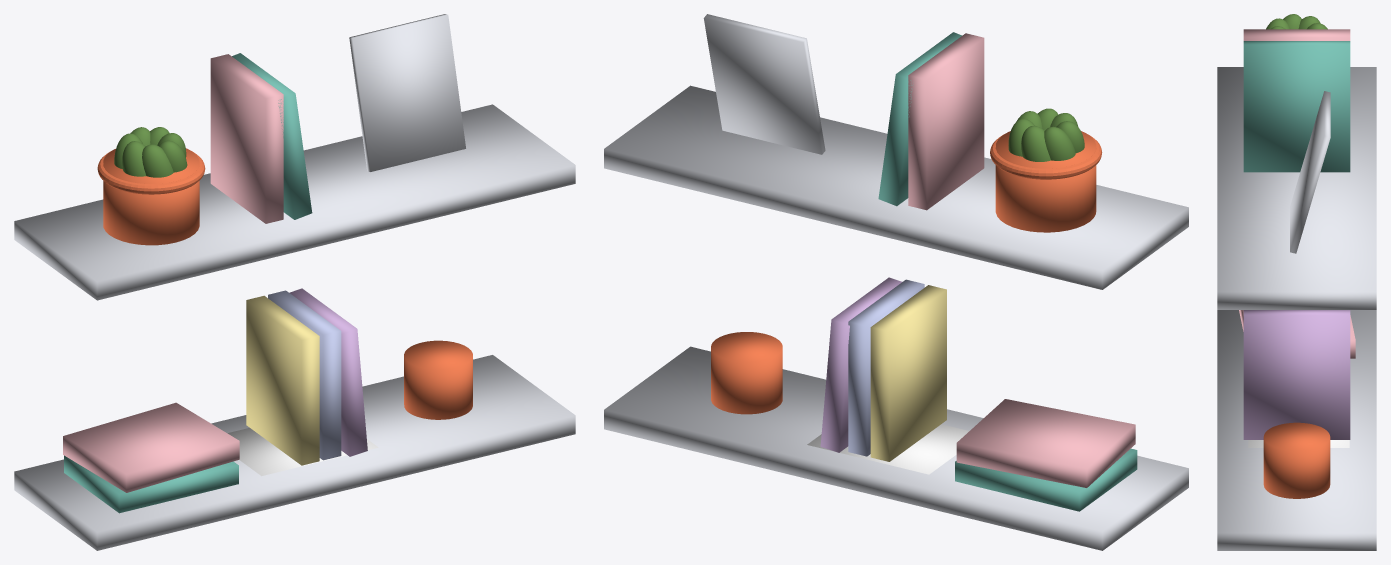
The picture shows the model from 3 angles, left to right: view 1: azimuth 30°, elevation 25°; view 2: azimuth 150°, elevation 25°; view 3: azimuth 270°, elevation 25°; orthographic projection. The views are drawn at different scales.
Parts seen in each view (by area): view 1: Cube, Cube.007, Cube.005, Cube.012, Cube.001, Cube.010, Cylinder, Cylinder.001, Cube.014, Cube.008, Cube.016, Cube.003 (+4 smaller); view 2: Cube, Cube.007, Cube.005, Cube.012, Cube.001, Cube.010, Cylinder, Cylinder.001, Cube.014, Cube.008, Cube.016, Cube.003 (+4 smaller); view 3: Cube, Cube.007, Cube.016, Cube.003, Cylinder.001, Cube.005, Cube.001, Cube.009, Cube.010.
Part boxes in pixels (x1,y1,x2,y2): Cube: (14,104,575,300); Cube.007: (14,355,575,550); Cube.005: (349,14,465,171); Cube.012: (246,295,319,465); Cube.001: (210,54,283,223); Cube.010: (63,402,239,492); Cylinder: (103,148,199,245); Cylinder.001: (404,340,472,419); Cube.014: (268,290,341,460); Cube.008: (64,455,238,513); Cube.016: (289,288,367,456); Cube.003: (232,53,312,219); Cube: (604,85,1188,289); Cube.007: (604,346,1188,550); Cube.005: (703,14,825,154); Cube.012: (870,285,946,461); Cube.001: (908,33,984,210); Cube.010: (956,399,1135,487); Cylinder: (995,131,1096,232); Cylinder.001: (711,332,782,414); Cube.014: (848,279,924,456); Cube.008: (955,448,1137,511); Cube.016: (820,277,901,452); Cube.003: (878,32,962,206); Cube: (1217,67,1376,309); Cube.007: (1217,310,1376,550); Cube.016: (1243,310,1350,439); Cube.003: (1243,41,1350,172); Cylinder.001: (1263,422,1330,498); Cube.005: (1290,91,1330,253); Cube.001: (1243,29,1350,40); Cube.009: (1248,440,1349,447); Cube.010: (1239,310,1355,358).
Size of the model in its own units: 4 by 3.18 by 1.2.
